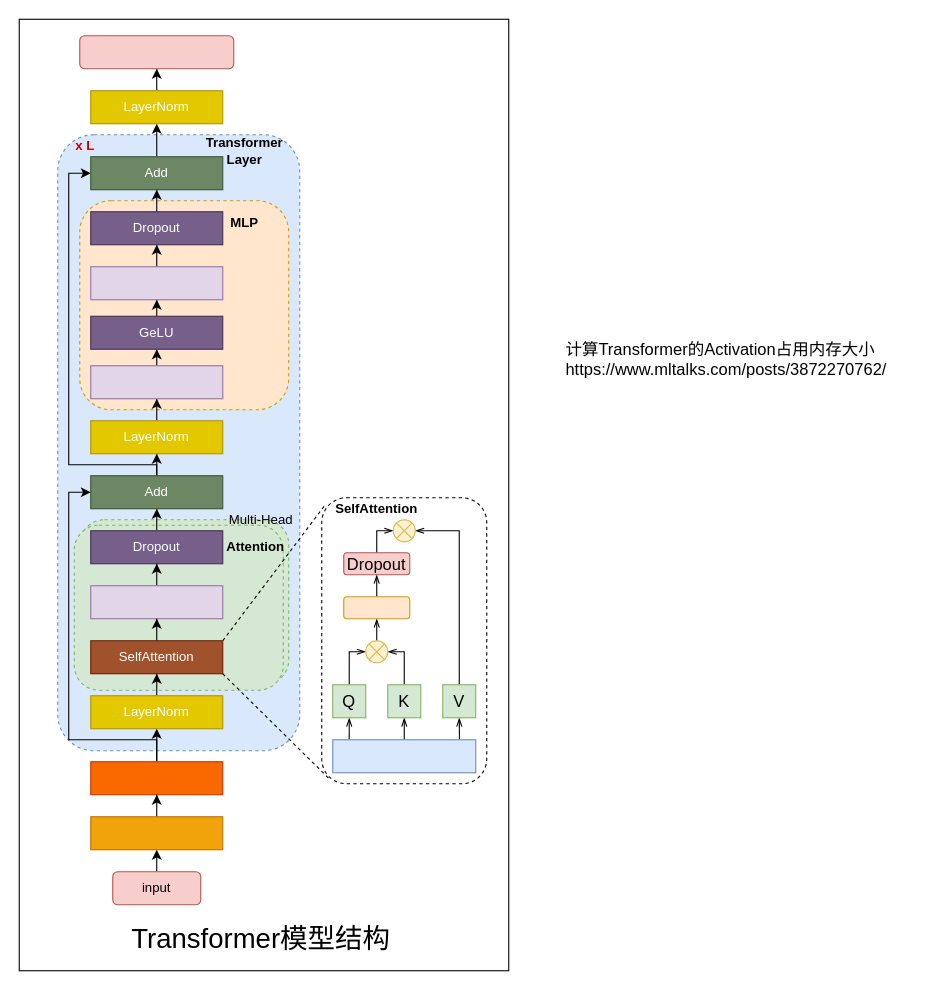
This 935x990 diagram has some shape labels left out. The box of each missing label's shape, as (x1, y1, x2, y2) in pixels:
Linear (h->4h): (90, 365, 223, 399)
Linear (h->h): (90, 585, 223, 619)
Linear(4h->h): (90, 266, 223, 300)
Linear: XW: (332, 739, 476, 773)
Output Layer & Loss: (79, 35, 234, 69)
softmax: (343, 596, 410, 619)
Tokenize: (90, 816, 223, 850)
Word&Position Embedding: (90, 761, 223, 795)
